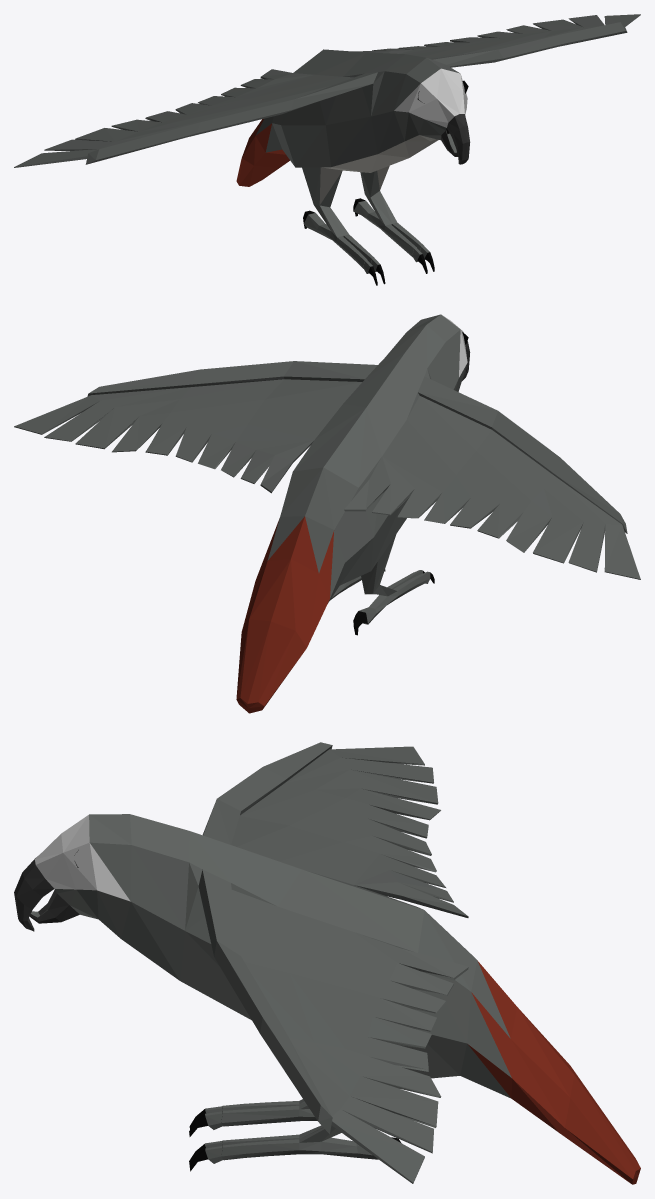
The model's file is parrot.glb.
3 renders of one model, top to bottom at view 1: azimuth 30°, elevation 25°; view 2: azimuth 150°, elevation 25°; view 3: azimuth 270°, elevation 25°, orthographic. The views are drawn at different scales.
Visible parts, largest first — view 1: parrot; view 2: parrot; view 3: parrot.
Part boxes in pixels (box(x1,y1,x2,y2)): parrot: box(14, 14, 640, 285); parrot: box(14, 314, 640, 713); parrot: box(14, 742, 640, 1184).
Size of the model in its own units: 0.6063 by 0.2394 by 0.3679.
